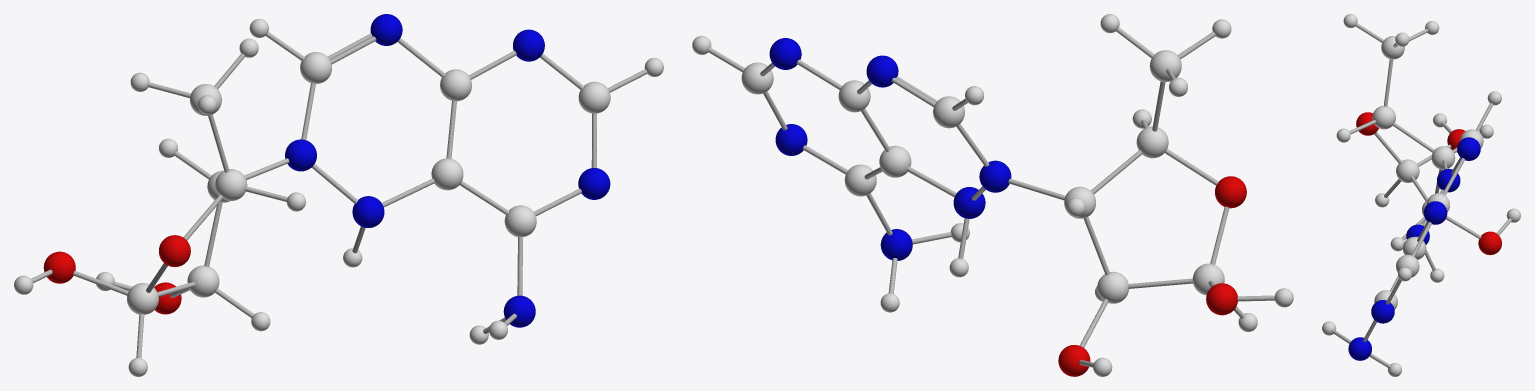
The picture shows the model from 3 angles, left to right: view 1: azimuth 30°, elevation 25°; view 2: azimuth 150°, elevation 25°; view 3: azimuth 270°, elevation 25°; orthographic projection. The views are drawn at different scales.
Visible parts, largest first — view 1: world; view 2: world; view 3: world.
Part boxes in pixels (left/top/right/bottom): world: left=14, top=14, right=663, bottom=376; world: left=692, top=14, right=1293, bottom=376; world: left=1322, top=14, right=1520, bottom=376.
Bounding box in the file's own units: 11.22 × 6.11 × 4.21.
